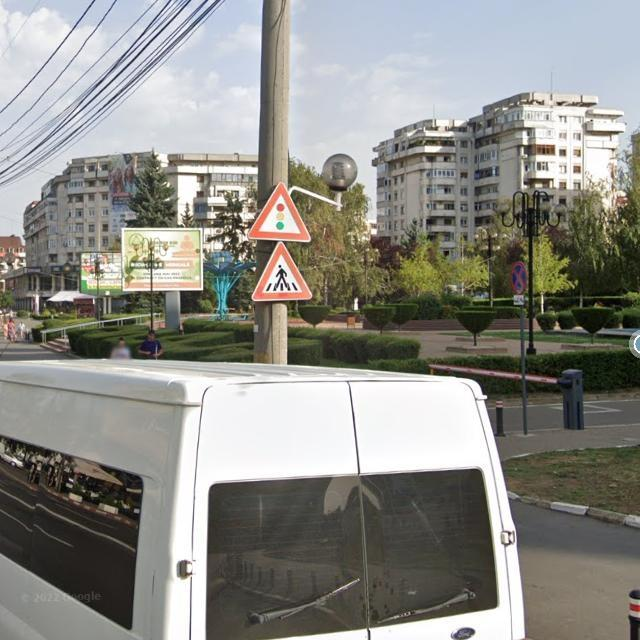forb_waiting: (507, 260, 528, 295)
warn_crosswalk: (249, 243, 314, 301)
